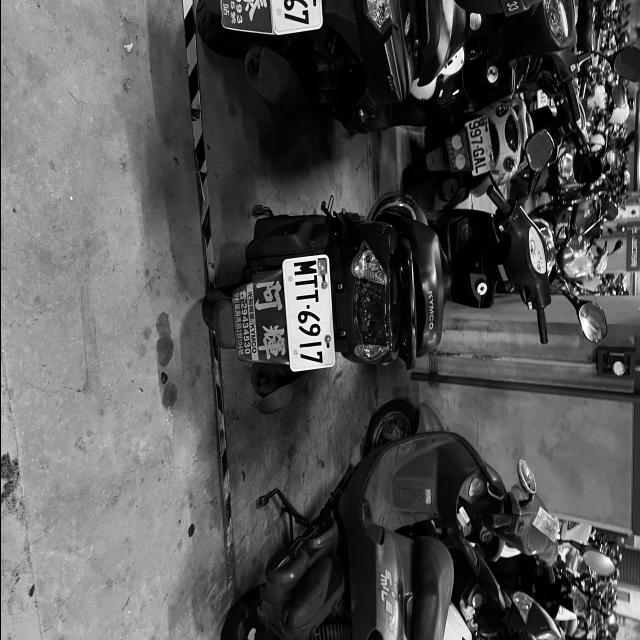-: (304, 304, 310, 310), (475, 145, 478, 149)
1: (298, 324, 322, 336), (297, 340, 321, 349)
6: (296, 310, 320, 324)
7: (283, 9, 308, 27), (299, 350, 322, 366), (470, 136, 483, 147)
9: (468, 128, 481, 139), (467, 120, 479, 131)
A: (473, 156, 485, 166)
G: (472, 147, 484, 158)
L: (474, 163, 486, 174)
M: (294, 260, 316, 276)
T: (294, 276, 317, 290), (295, 289, 317, 303)
plate: (286, 253, 331, 369), (463, 116, 494, 177)
